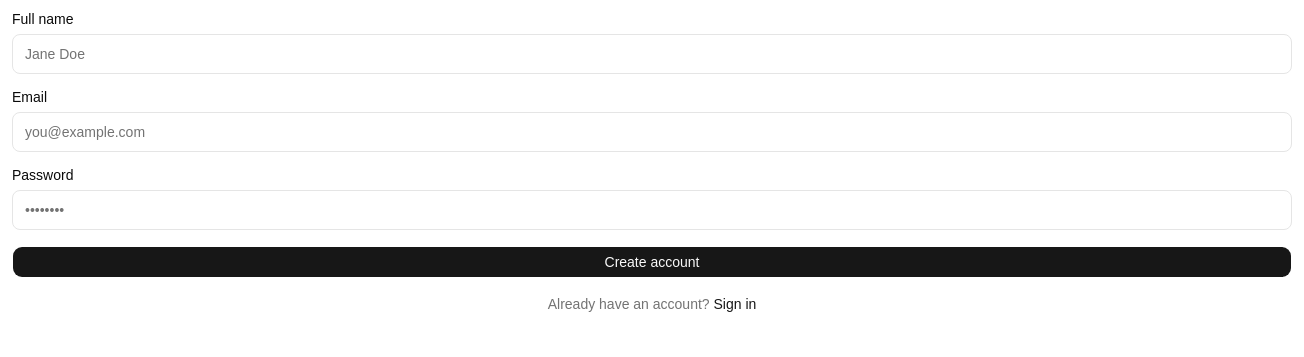
Test: RegisterForm › validates full name required
In the field labelled "Email": (652, 132) [12, 112, 1292, 152], type "test@test.com"
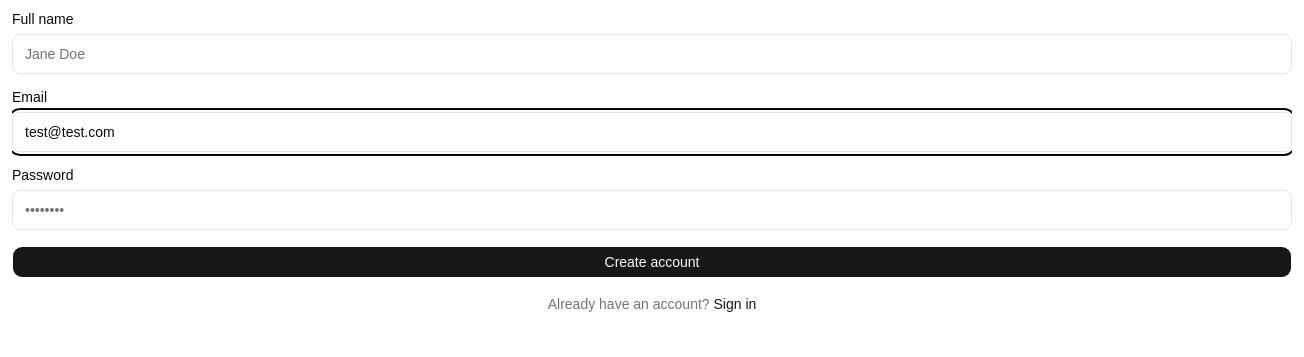
In the password field labelled "Password": (652, 210) [12, 190, 1292, 230], type "Str0ngP@ss!"
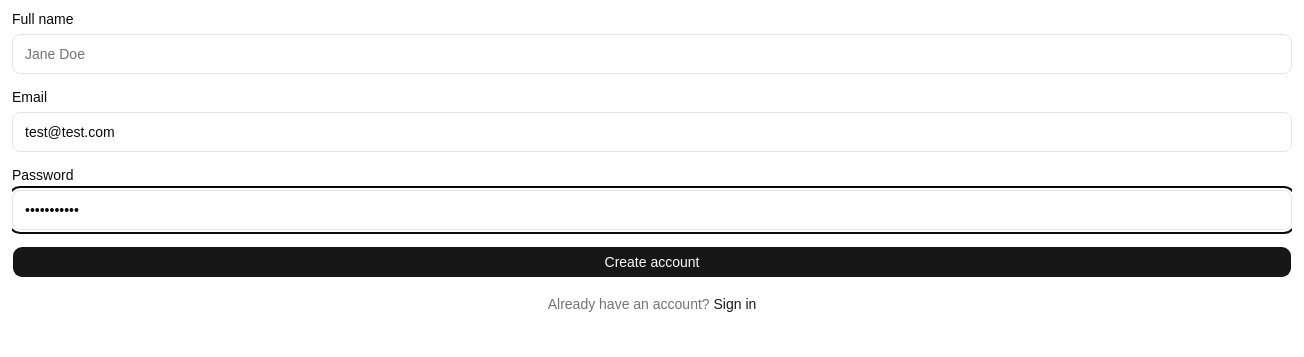
Click the button "Create account": (652, 262) [12, 246, 1292, 278]
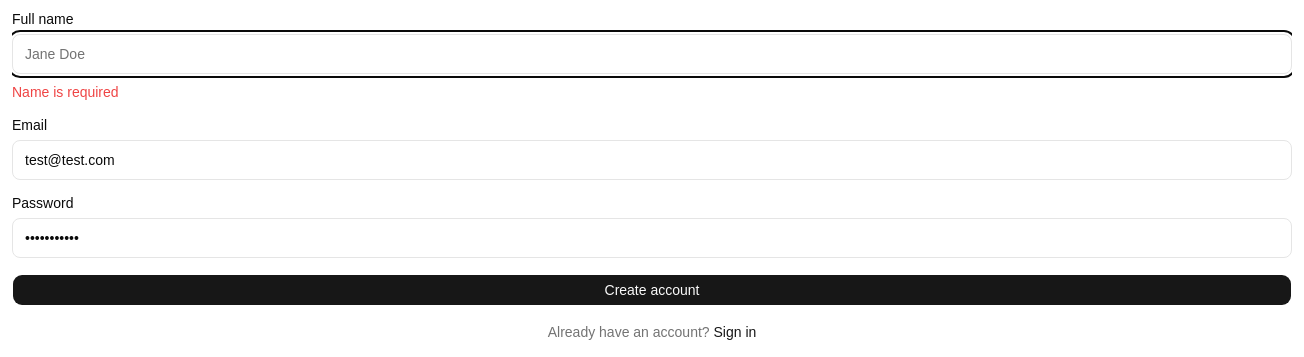
Expected: the text "Name is required" is shown, [12, 84, 119, 100]
